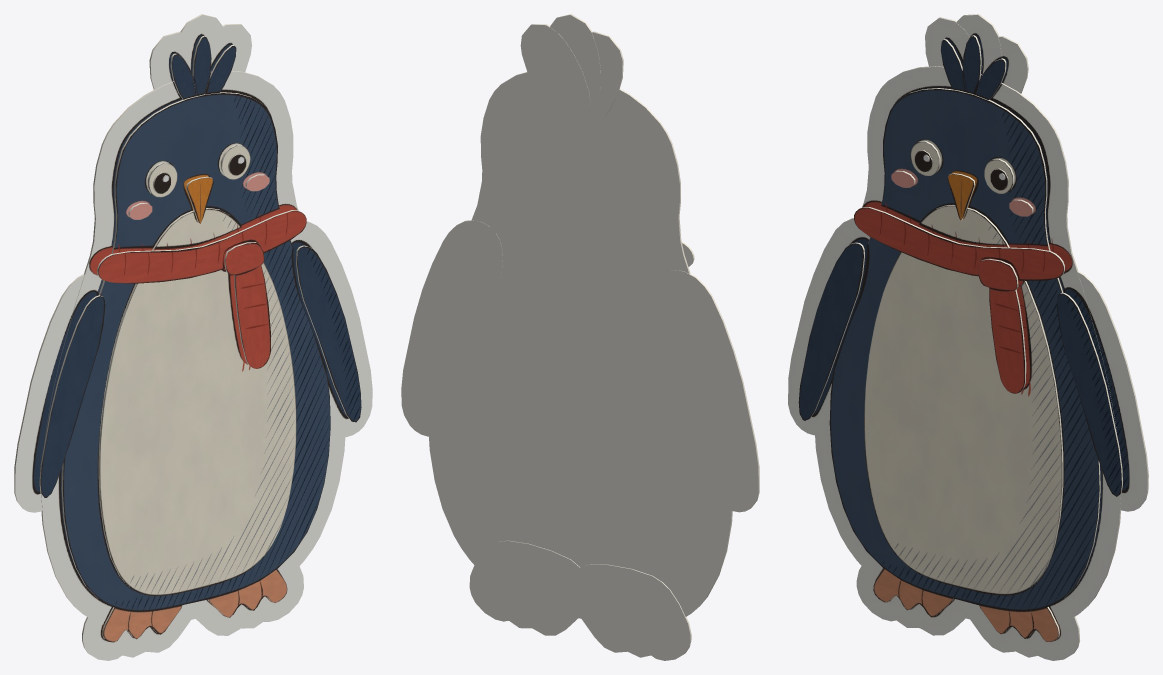
File: pip.glb
The picture shows the model from 3 angles, left to right: view 1: azimuth 30°, elevation 25°; view 2: azimuth 150°, elevation 25°; view 3: azimuth 330°, elevation 25°; orthographic projection.
Visible parts, largest first — view 1: pip.001; view 2: pip.001; view 3: pip.001.
Part boxes in pixels (<box>): pip.001: <box>14,14,372,660</box>; pip.001: <box>401,14,759,660</box>; pip.001: <box>788,14,1148,660</box>.
Size of the model in its own units: 0.6557 by 1.1 by 0.0393.
Materials: 3 (1 with a texture image).
